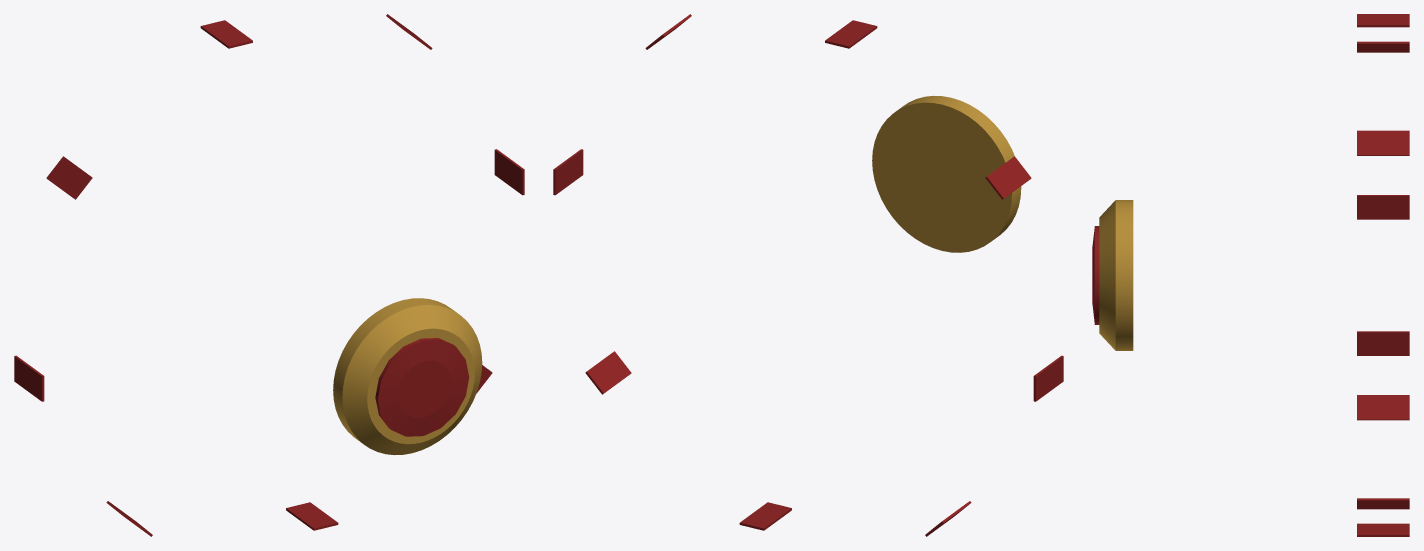
File: h5_seal.obj
The picture shows the model from 3 angles, left to right: view 1: azimuth 30°, elevation 25°; view 2: azimuth 150°, elevation 25°; view 3: azimuth 270°, elevation 25°; orthographic projection. The views are drawn at different scales.
Visible parts, largest first — view 1: h5_seal; view 2: h5_seal; view 3: h5_seal.
Part boxes in pixels (left/top/right/bottom): h5_seal: left=14, top=14, right=524, bottom=536; h5_seal: left=553, top=14, right=1063, bottom=536; h5_seal: left=1092, top=14, right=1409, bottom=536.
Size of the model in its own units: 2.22 by 2.22 by 1.35.
